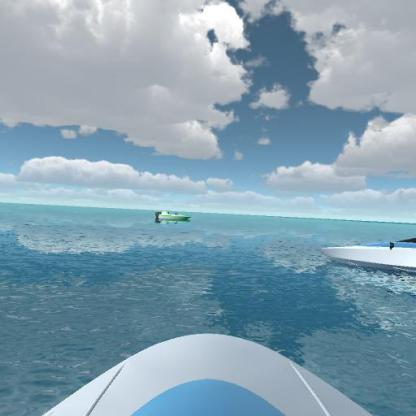usv0: (152, 207, 191, 226)
usv1: (318, 231, 415, 272)
